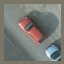car: (17, 16, 47, 44)
